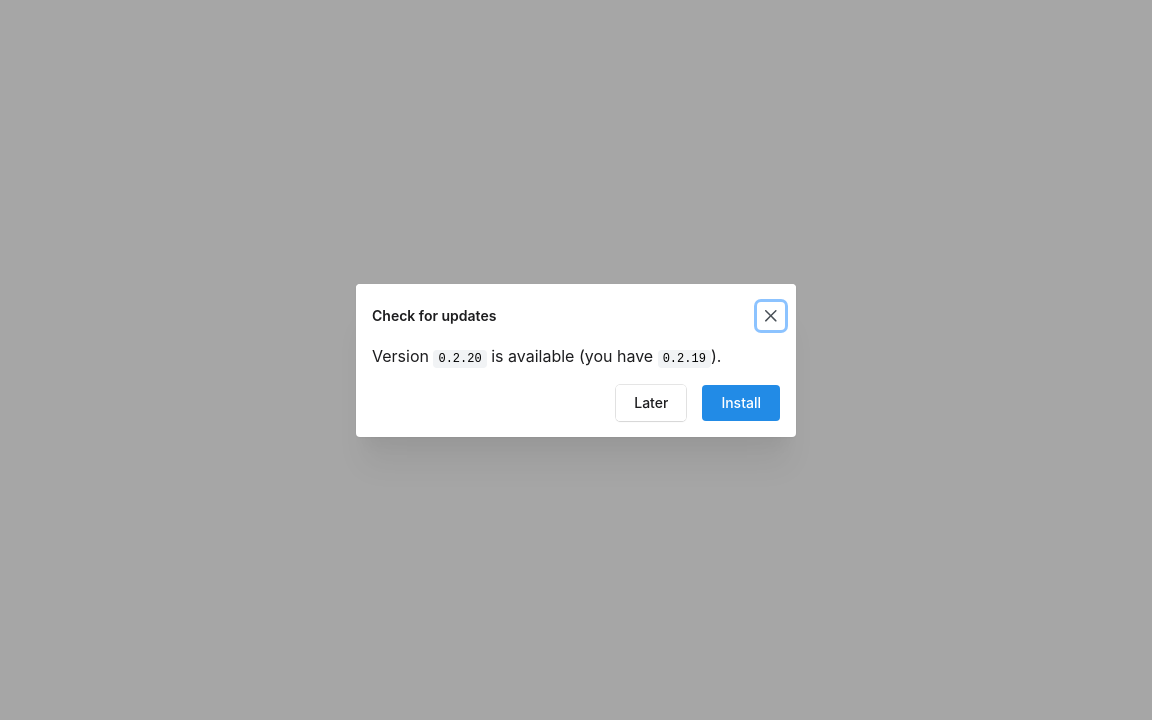
Test: UpdateChecker › warns that restarting cancels a running query
Step 1. Click the button "Install" → [741, 402], box x1=702 y1=384 x2=780 y2=420
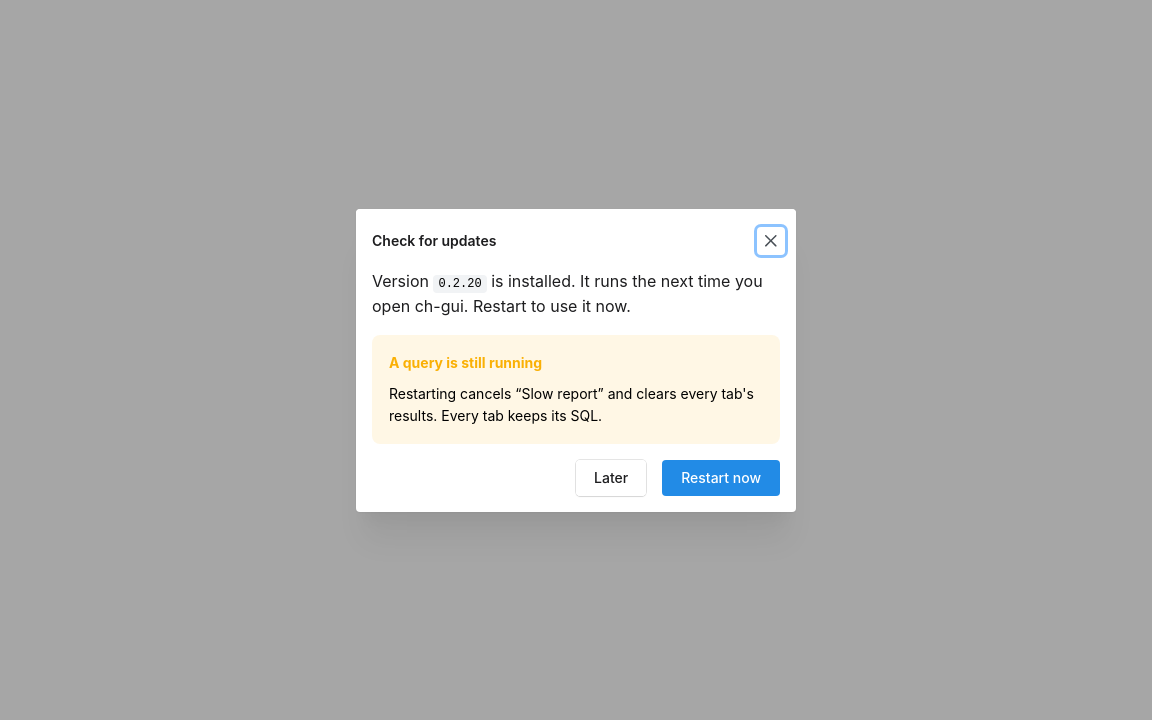
expect the text "Restarting cancels “Slow report”" is shown: met, box x1=389 y1=383 x2=763 y2=426
